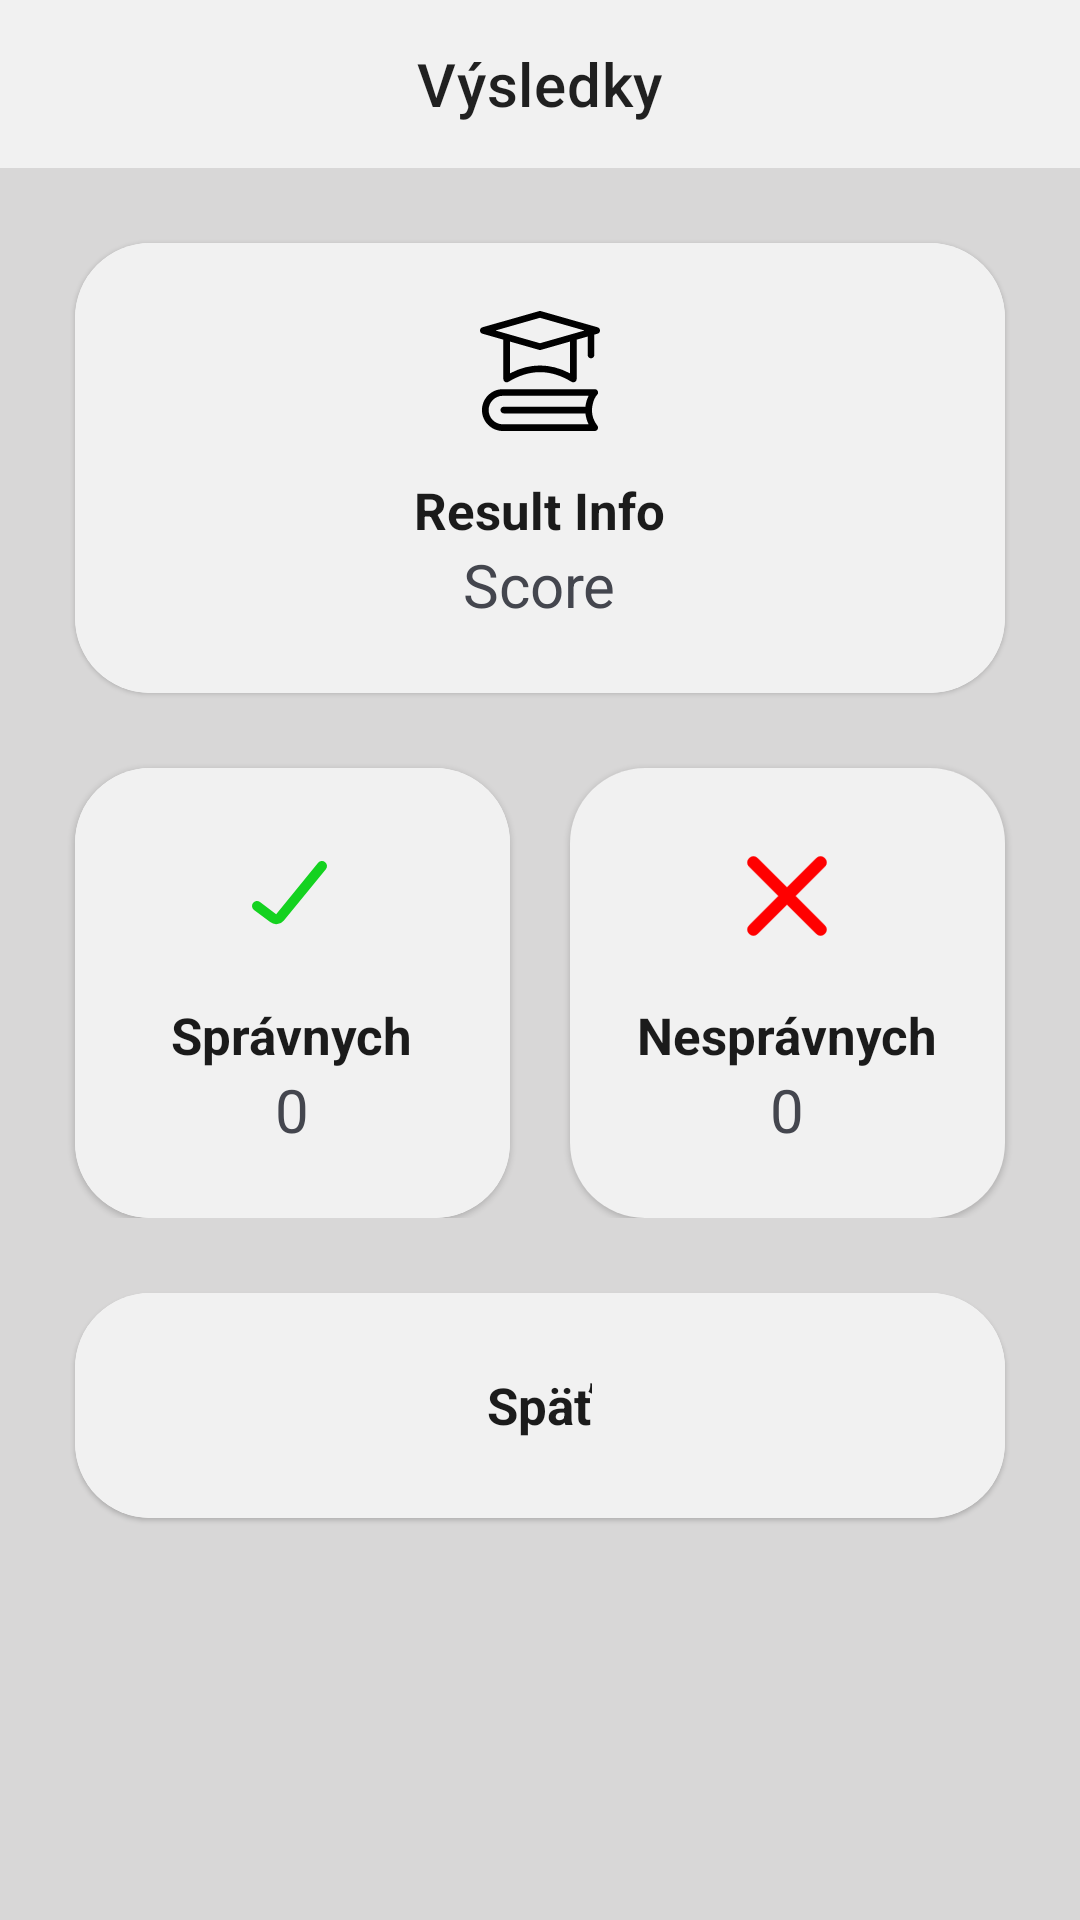

Icons on this 1080x1920 Android screen, each with its box as [left=x1, top=y1, right=x2, bottom=y2]:
done: [left=252, top=861, right=327, bottom=925]
study: [left=480, top=311, right=600, bottom=431]
wrong: [left=747, top=856, right=827, bottom=936]
